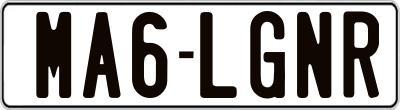6: (131, 12, 169, 101)
A: (81, 10, 124, 98)
G: (247, 11, 287, 102)
L: (198, 11, 240, 103)
M: (33, 9, 69, 95)
N: (296, 9, 335, 97)
R: (340, 10, 382, 103)
